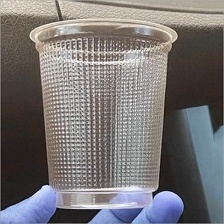glass: (24, 16, 184, 215)
